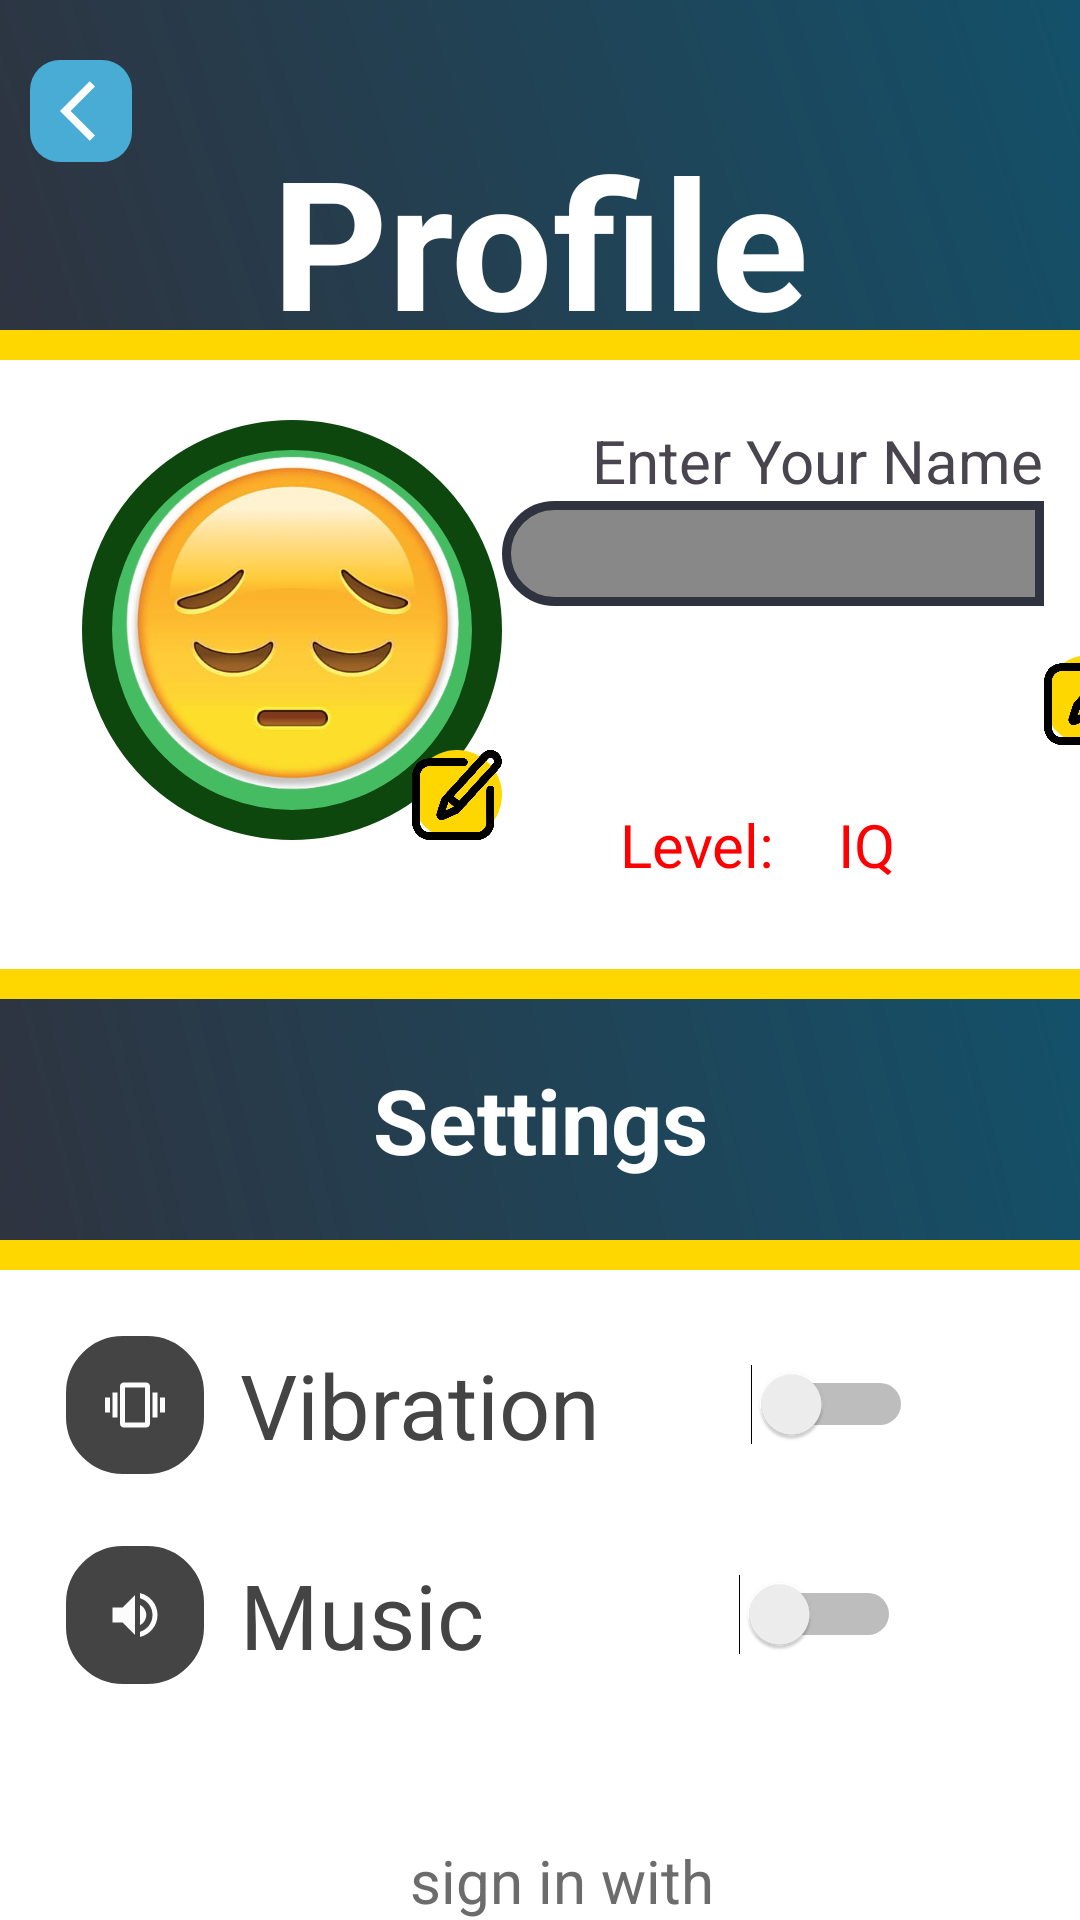

Icons on this 1080 x 1920 Android screen, each with the point to tap as [x,y]:
arrow back: [81,111]
sound: [135,1615]
vibtrations: [135,1405]
